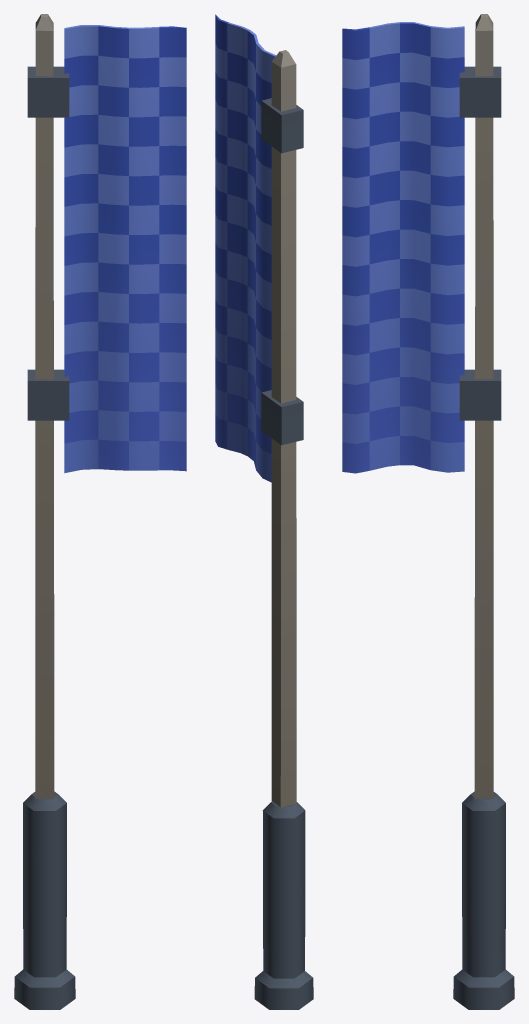
The model's file is FlagRace_B.fbx.
The picture shows the model from 3 angles, left to right: view 1: azimuth 90°, elevation 25°; view 2: azimuth 210°, elevation 25°; view 3: azimuth 270°, elevation 25°; orthographic projection. The views are drawn at different scales.
Parts seen in each view (by area): view 1: FlagRace_B; view 2: FlagRace_B; view 3: FlagRace_B.
Part boxes in pixels (x1=…): FlagRace_B: x1=14, y1=14, x2=186, y2=1009; FlagRace_B: x1=215, y1=14, x2=313, y2=1009; FlagRace_B: x1=342, y1=14, x2=514, y2=1009.
Size of the model in its own units: 62.3 by 1269 by 202.
